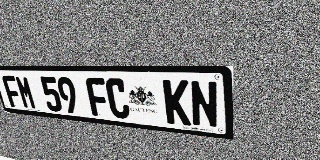5: (39, 76, 63, 112)
9: (55, 77, 80, 114)
C: (104, 78, 131, 119)
F: (85, 77, 111, 117), (1, 75, 24, 108)
K: (163, 80, 191, 126)
M: (14, 76, 37, 110)
N: (189, 80, 218, 129)
